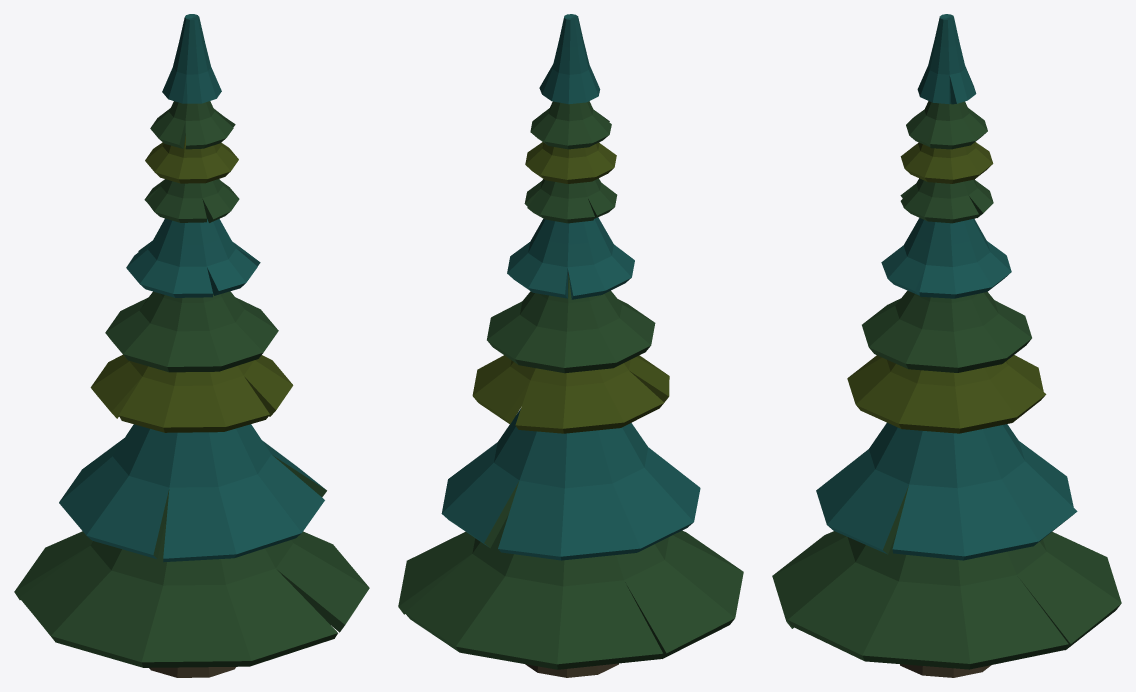
File: Tree_02.fbx
3 views of the same model, side by side, from view 1: azimuth 30°, elevation 25°; view 2: azimuth 150°, elevation 25°; view 3: azimuth 270°, elevation 25° (orthographic).
Visible parts, largest first — view 1: Circle.111; view 2: Circle.111; view 3: Circle.111.
Part boxes in pixels (x1,y1,x2,y2): Circle.111: (14,14,369,677); Circle.111: (398,14,743,677); Circle.111: (772,14,1121,677).
Bounding box in the file's own units: 130 × 260 × 129.
